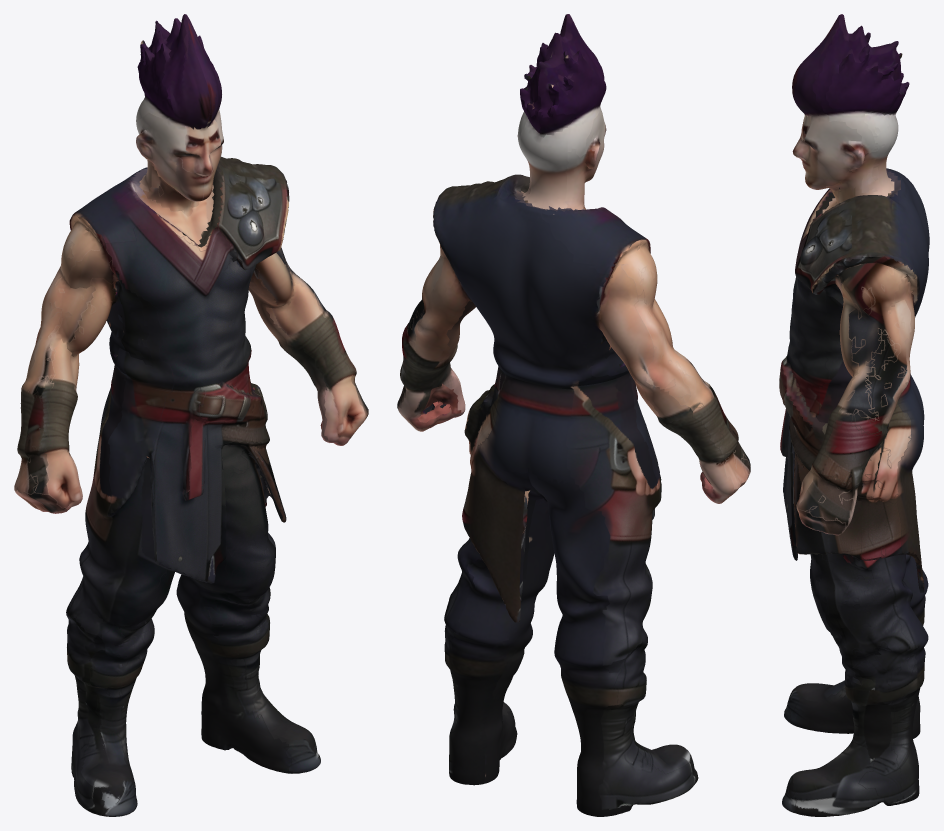
Rendered from rhex_v2.glb.
The picture shows the model from 3 angles, left to right: view 1: azimuth 30°, elevation 25°; view 2: azimuth 150°, elevation 25°; view 3: azimuth 270°, elevation 25°; orthographic projection.
Parts seen in each view (by area): view 1: tmpzasvftrw.ply; view 2: tmpzasvftrw.ply; view 3: tmpzasvftrw.ply.
Boxes of the visible parts, x1,y1,x2,y2 form: tmpzasvftrw.ply: [14, 14, 368, 816]; tmpzasvftrw.ply: [397, 14, 750, 816]; tmpzasvftrw.ply: [779, 14, 929, 816].
Size of the model in its own units: 0.9398 by 1.99 by 0.3617.
Materials: 1 (1 with a texture image).
